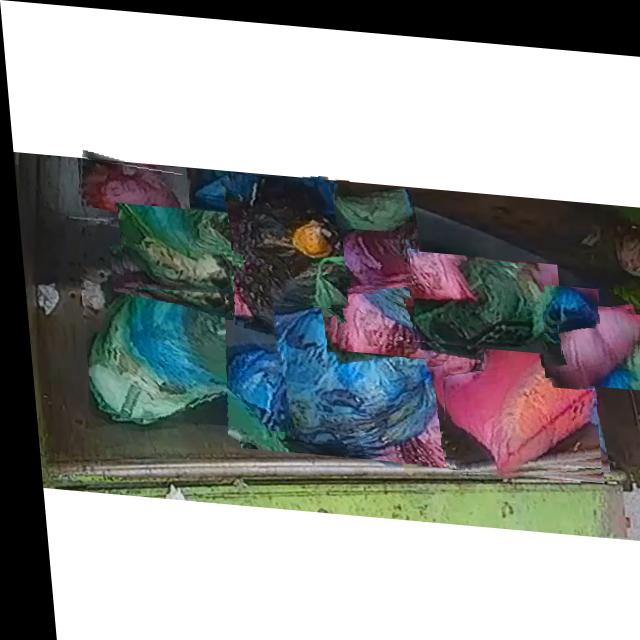general_trashbag: (82, 254, 274, 417), (411, 251, 552, 337), (115, 201, 228, 289), (333, 189, 408, 224)
other_trashbag: (225, 300, 444, 447), (437, 341, 589, 465), (232, 174, 340, 300), (332, 281, 478, 353), (538, 296, 630, 378), (326, 200, 410, 276), (77, 162, 183, 221), (543, 277, 595, 314)
